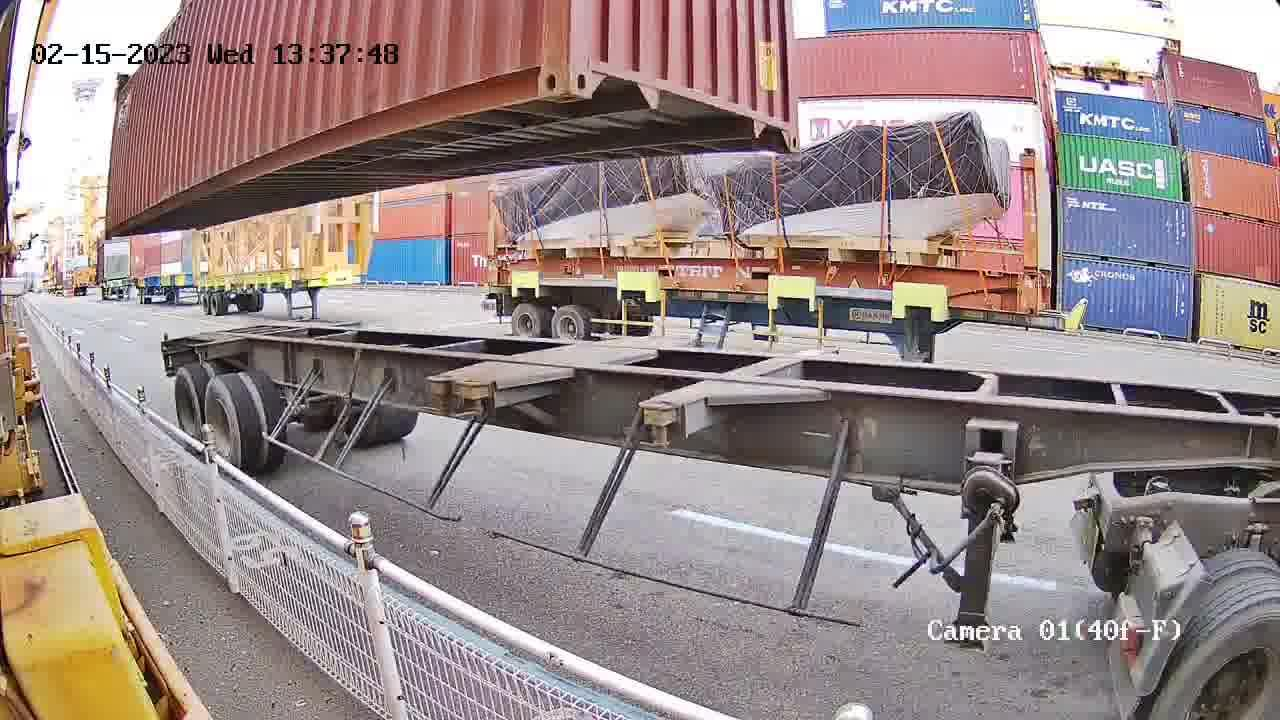Hole_L: (566, 32, 627, 104)
Hole_R: (493, 27, 568, 109), (752, 79, 801, 153)
Tire: (1150, 598, 1279, 719), (205, 380, 242, 461), (173, 371, 202, 439)
